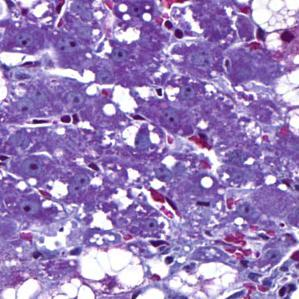ballooning: (77, 243, 146, 296), (166, 259, 238, 297), (249, 0, 298, 36)
